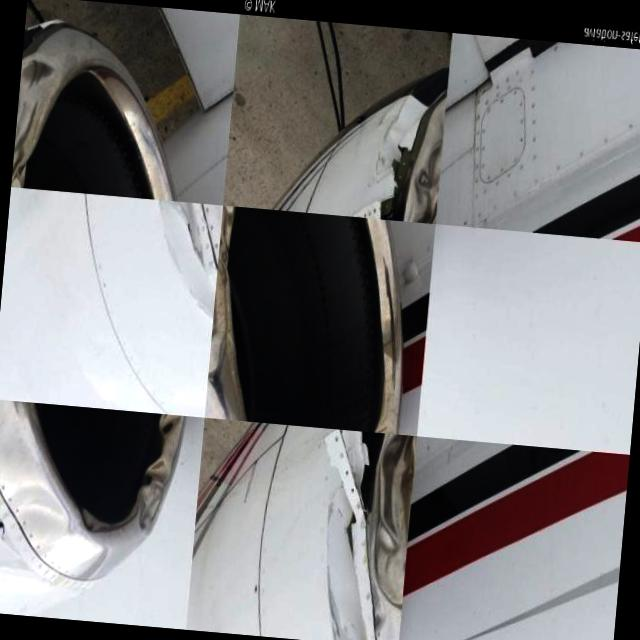dent: (8, 480, 73, 540), (16, 63, 56, 145), (137, 456, 171, 533)
